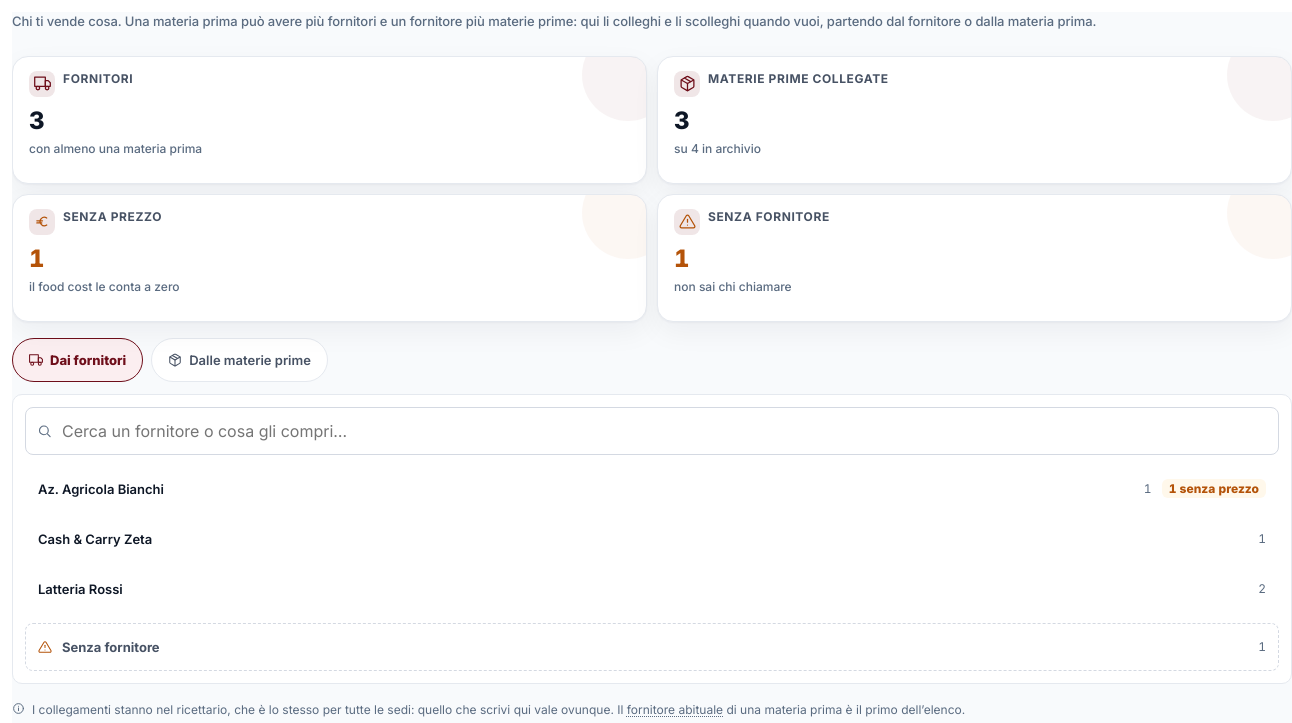
col dito: telefono e tablet › sul telefono elenco e scheda non stanno affiancati
expect the field labelled "Cerca un fornitore" is shown: met, box [25,406,1279,454]
Click the button "Latteria Rossi 2" at (80,588), box [25,564,1279,612]
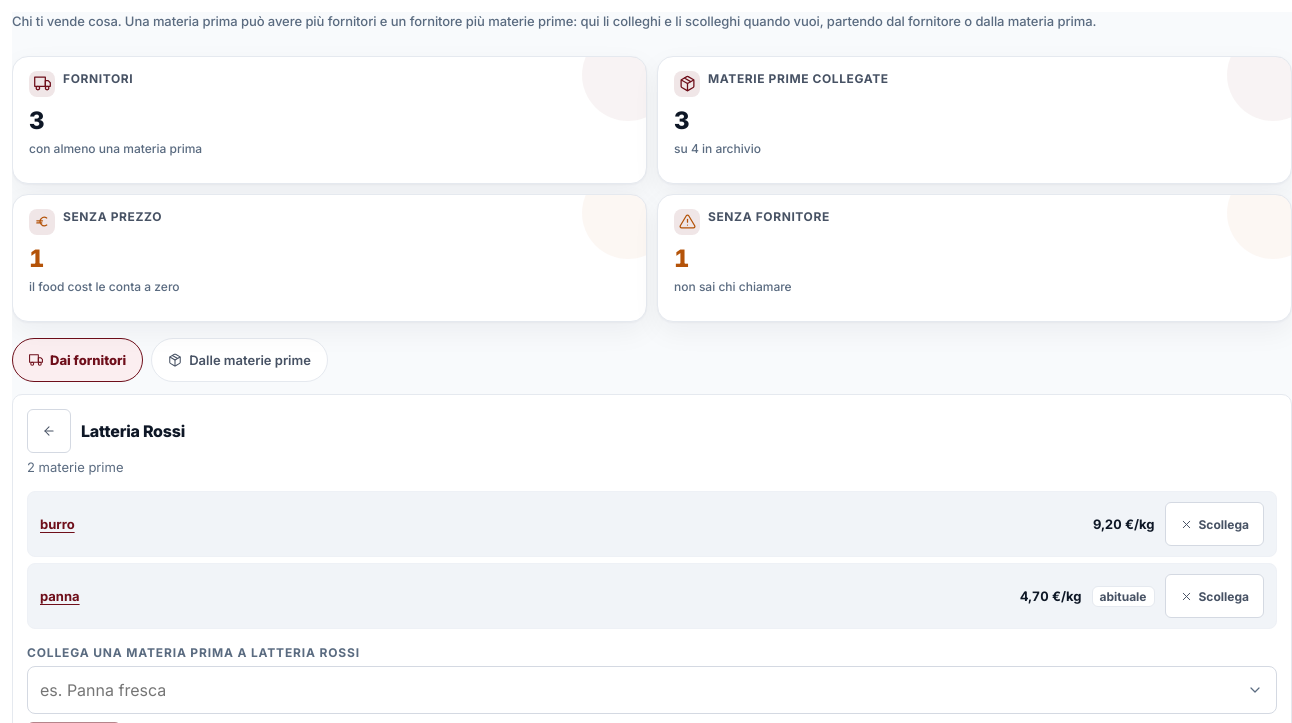
expect the heading "Latteria Rossi" is shown: met, box [81,420,185,440]
